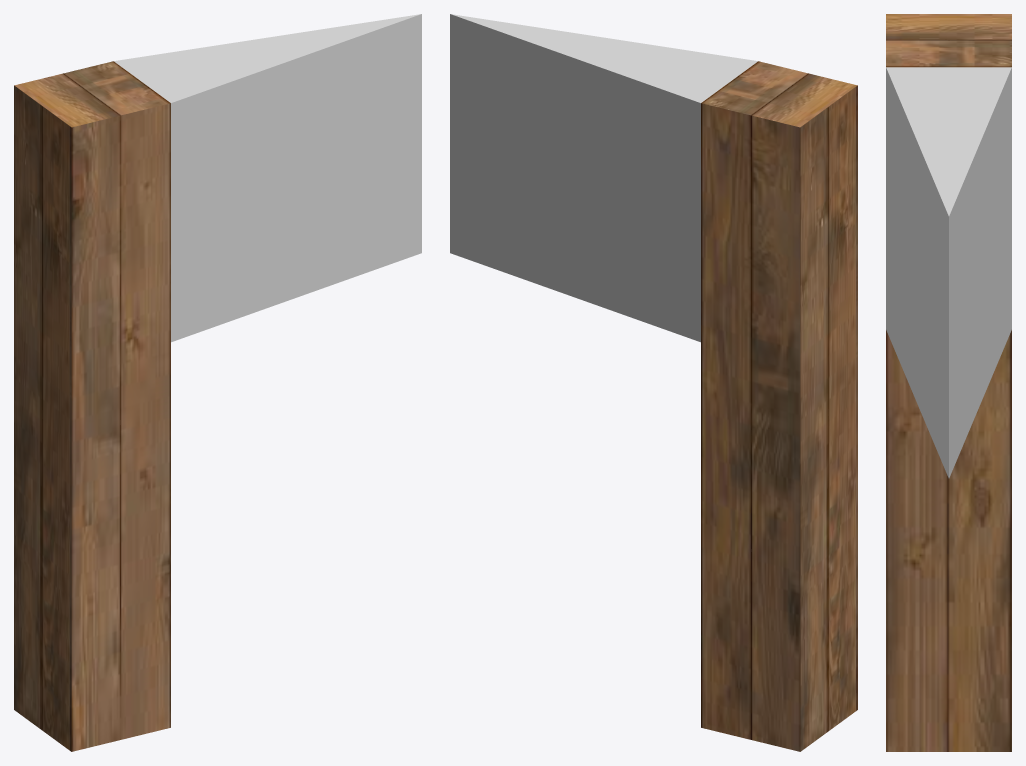
File: flag.fbx
3 views of the same model, side by side, from view 1: azimuth 30°, elevation 25°; view 2: azimuth 150°, elevation 25°; view 3: azimuth 270°, elevation 25° (orthographic). The views are drawn at different scales.
Visible parts, largest first — view 1: Flag; view 2: Flag; view 3: Flag.
Boxes of the visible parts, x1,y1,x2,y2 form: Flag: (14,14,421,751); Flag: (450,14,857,751); Flag: (886,14,1011,751).
Bounding box in the file's own units: 3.81 × 6 × 1.
2 materials, 1 textured.
